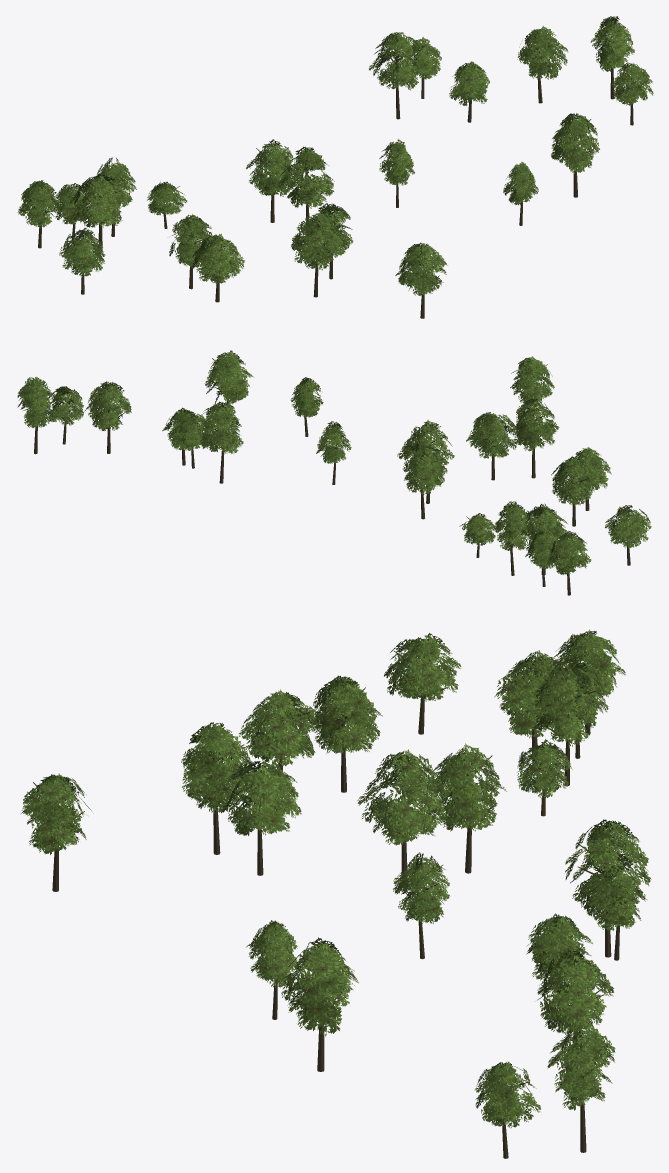
File: TRB8-FOREST-CHUNK-2-6.glb
The picture shows the model from 3 angles, top to bottom: view 1: azimuth 30°, elevation 25°; view 2: azimuth 150°, elevation 25°; view 3: azimuth 270°, elevation 25°; orthographic projection. The views are drawn at different scales.
Visible parts, largest first — view 1: TRB8-FOREST-CHUNK-2-6; view 2: TRB8-FOREST-CHUNK-2-6; view 3: TRB8-FOREST-CHUNK-2-6.
Part boxes in pixels (left/top/right/bottom): TRB8-FOREST-CHUNK-2-6: left=17, top=16, right=653, bottom=318; TRB8-FOREST-CHUNK-2-6: left=17, top=350, right=651, bottom=595; TRB8-FOREST-CHUNK-2-6: left=21, top=629, right=651, bottom=1158.
Bounding box in the file's own units: 42.22 × 8.21 × 24.07.
2 materials, 1 textured.
